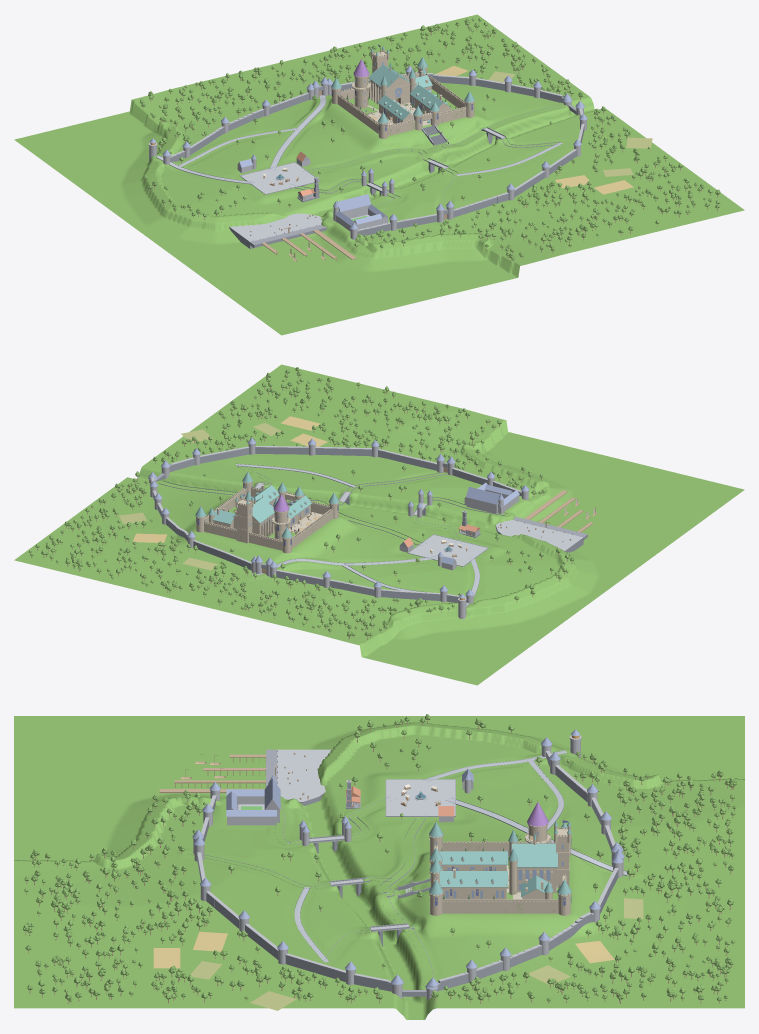
File: greyhaven.glb
3 renders of one model, top to bottom at view 1: azimuth 30°, elevation 25°; view 2: azimuth 150°, elevation 25°; view 3: azimuth 270°, elevation 25°, orthographic. The views are drawn at different scales.
Visible parts, largest first — view 1: GH_Terrain.001, M_GH_Stone_Dark, M_GH_Stone, M_GH_Cobble, M_AC_Roof_Teal, M_AC_Stone_Ext, M_GH_Roof_Slate, M_GH_Cobblestone, M_AC_Stone_Tower, M_AC_Stone_Hall, M_AC_Trim, M_GH_Wood (+2 smaller); view 2: GH_Terrain.001, M_GH_Stone_Dark, M_GH_Stone, M_GH_Cobble, M_AC_Stone_Ext, M_GH_Roof_Slate, M_AC_Roof_Teal, M_AC_Stone_Hall, M_GH_Cobblestone, M_GH_Field_Crops, M_AC_Trim, M_AC_Stone_Tower (+2 smaller); view 3: GH_Terrain.001, M_GH_Stone_Dark, M_GH_Stone, M_GH_Cobble, M_AC_Roof_Teal, M_AC_Stone_Ext, M_GH_Roof_Slate, M_GH_Cobblestone, M_AC_Stone_Hall, M_GH_Field_Crops, M_GH_Field_Wheat, M_GH_Wood (+3 smaller).
Boxes of the visible parts, x1,y1,x2,y2 form: GH_Terrain.001: (14,14,744,335); M_GH_Stone_Dark: (155,74,584,248); M_GH_Stone: (148,71,587,239); M_GH_Cobble: (229,144,448,241); M_AC_Roof_Teal: (331,46,474,123); M_AC_Stone_Ext: (337,72,466,135); M_GH_Roof_Slate: (149,65,587,229); M_GH_Cobblestone: (156,95,562,197); M_AC_Stone_Tower: (331,65,474,138); M_AC_Stone_Hall: (369,49,431,104); M_AC_Trim: (331,52,474,127); M_GH_Wood: (250,90,447,261); GH_Terrain.001: (14,364,744,685); M_GH_Stone_Dark: (153,447,587,606); M_GH_Stone: (149,443,528,618); M_GH_Cobble: (409,520,582,565); M_AC_Stone_Ext: (204,486,332,550); M_GH_Roof_Slate: (148,438,529,598); M_AC_Roof_Teal: (195,472,339,538); M_AC_Stone_Hall: (209,497,274,543); M_GH_Cobblestone: (236,464,479,606); M_GH_Field_Crops: (119,423,281,570); M_AC_Trim: (195,481,338,542); M_AC_Stone_Tower: (196,481,338,553); GH_Terrain.001: (14,716,744,1019); M_GH_Stone_Dark: (188,749,627,996); M_GH_Stone: (193,735,623,1009); M_GH_Cobble: (237,749,455,900); M_AC_Roof_Teal: (429,821,571,897); M_AC_Stone_Ext: (434,841,565,913); M_GH_Roof_Slate: (192,729,624,989); M_GH_Cobblestone: (288,750,628,962); M_AC_Stone_Hall: (509,826,570,899); M_GH_Field_Crops: (190,898,643,1010); M_GH_Field_Wheat: (153,931,614,968); M_GH_Wood: (159,752,441,807).
Size of what is drawn, in the model's own units: 472 by 69.09 by 467.
